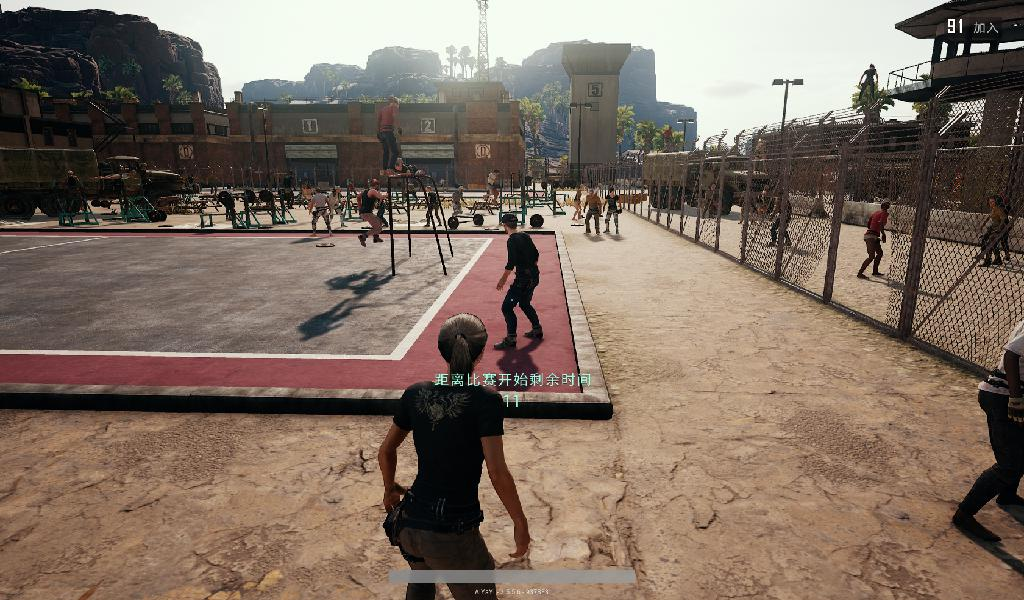Target Person: (377, 313, 531, 600), (493, 213, 545, 352), (857, 200, 892, 281), (356, 178, 390, 246), (979, 194, 1008, 267), (377, 95, 402, 175), (306, 187, 333, 237), (771, 188, 792, 250), (327, 182, 348, 231), (582, 188, 603, 235), (602, 188, 622, 235), (422, 185, 440, 229), (483, 167, 500, 206), (450, 185, 468, 219), (573, 185, 584, 225)
